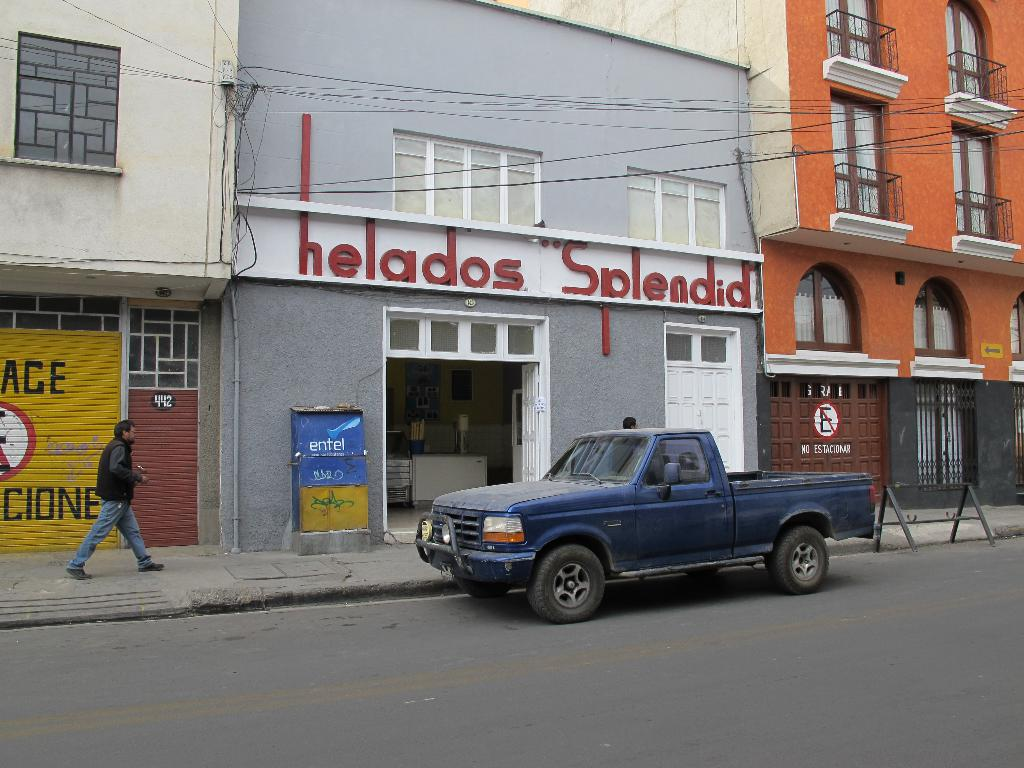mobil: (433, 424, 891, 634)
